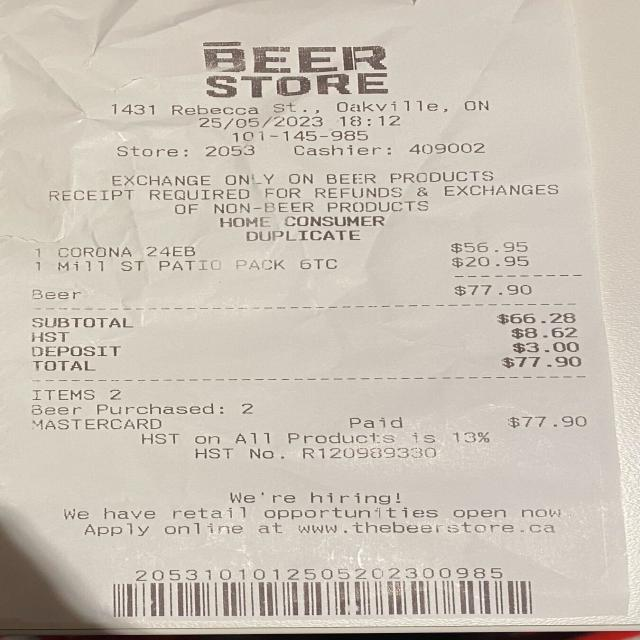item: (49, 254, 542, 276), (47, 239, 541, 260)
store_name: (190, 36, 406, 102)
total_amount: (22, 354, 592, 374)
transaction_date: (188, 112, 331, 132)
